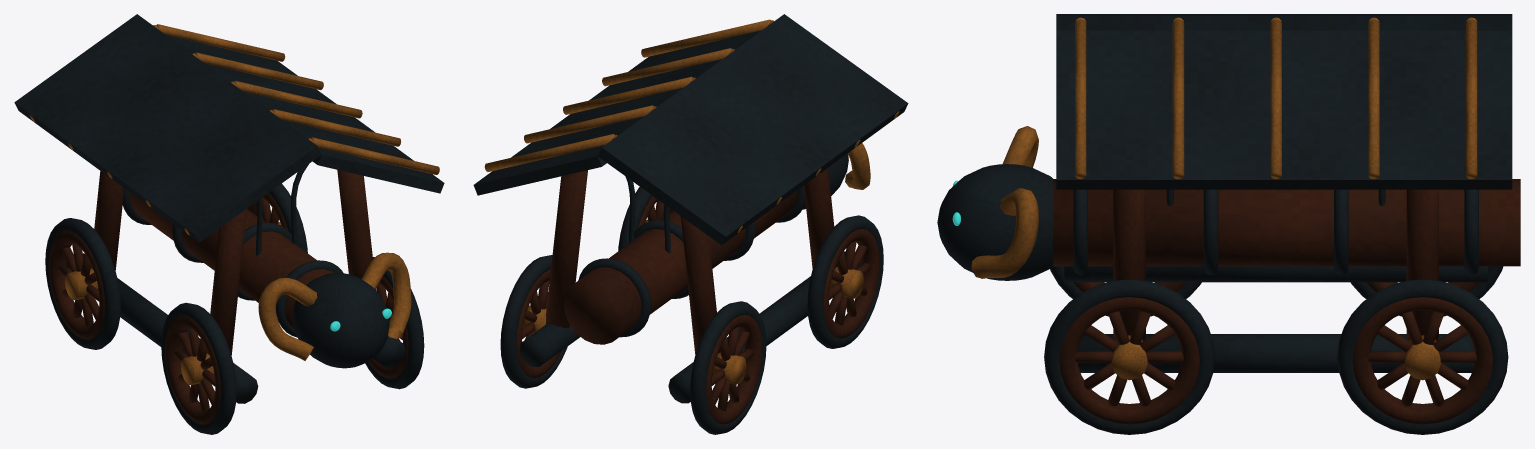
File: iron-ram.glb
The picture shows the model from 3 angles, left to right: view 1: azimuth 30°, elevation 25°; view 2: azimuth 150°, elevation 25°; view 3: azimuth 270°, elevation 25°; orthographic projection. The views are drawn at different scales.
Parts seen in each view (by area): view 1: IronRam_Blue iron.003, IronRam_Bound heartwood.003, RamHead_Blue iron.003, IronRam_Antique brass.003, RamHead_Bound heartwood.003, RamHead_Antique brass.003; view 2: IronRam_Blue iron.003, IronRam_Bound heartwood.003, RamHead_Bound heartwood.003, IronRam_Antique brass.003, RamHead_Blue iron.003, RamHead_Antique brass.003; view 3: IronRam_Blue iron.003, IronRam_Bound heartwood.003, RamHead_Bound heartwood.003, RamHead_Blue iron.003, IronRam_Antique brass.003, RamHead_Antique brass.003.
Boxes of the visible parts, x1,y1,x2,y2 form: IronRam_Blue iron.003: [14, 14, 444, 434]; IronRam_Bound heartwood.003: [49, 170, 408, 424]; RamHead_Blue iron.003: [122, 188, 389, 368]; IronRam_Antique brass.003: [29, 24, 439, 385]; RamHead_Bound heartwood.003: [130, 193, 333, 328]; RamHead_Antique brass.003: [258, 252, 411, 360]; IronRam_Blue iron.003: [473, 14, 908, 434]; IronRam_Bound heartwood.003: [516, 168, 879, 424]; RamHead_Bound heartwood.003: [564, 190, 797, 344]; IronRam_Antique brass.003: [484, 19, 899, 384]; RamHead_Blue iron.003: [578, 154, 848, 337]; RamHead_Antique brass.003: [845, 143, 870, 189]; IronRam_Blue iron.003: [1044, 14, 1512, 434]; IronRam_Bound heartwood.003: [1059, 189, 1492, 424]; RamHead_Bound heartwood.003: [1052, 179, 1520, 266]; RamHead_Blue iron.003: [937, 164, 1478, 280]; IronRam_Antique brass.003: [1075, 17, 1477, 380]; RamHead_Antique brass.003: [971, 126, 1038, 278].
Bounding box in the file's own units: 2.27 × 2.43 × 3.58.
Materials: 4 (4 with a texture image).
